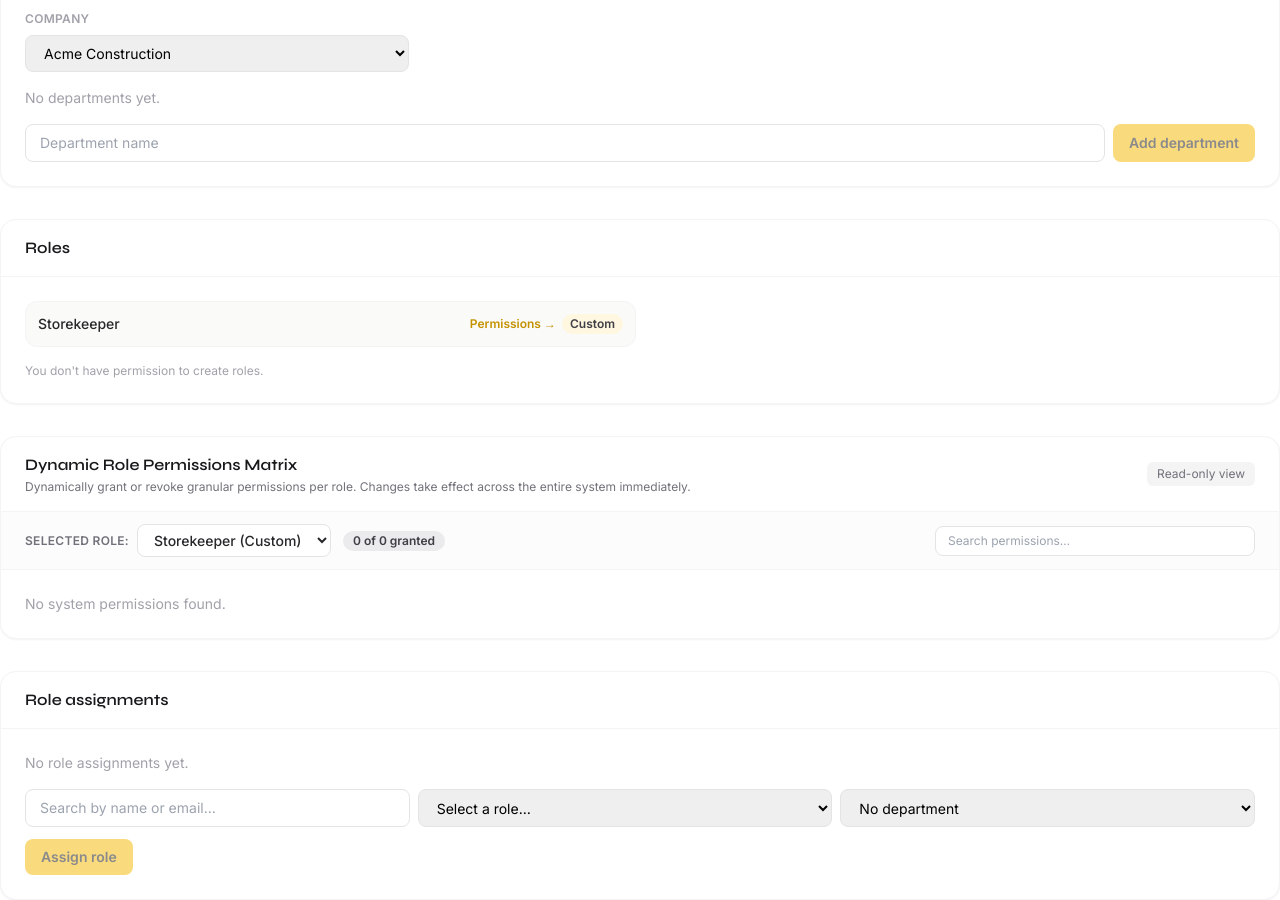
Scenario: DepartmentsRolesPage › creates a role assignment by picking a role from the fetched list
This screenshot has width=1280, height=900.
(page scrolled)
In the field with placeholder "Search by name or email…": (217, 808) top-left (25, 789), bottom-right (410, 827), type "Uma"
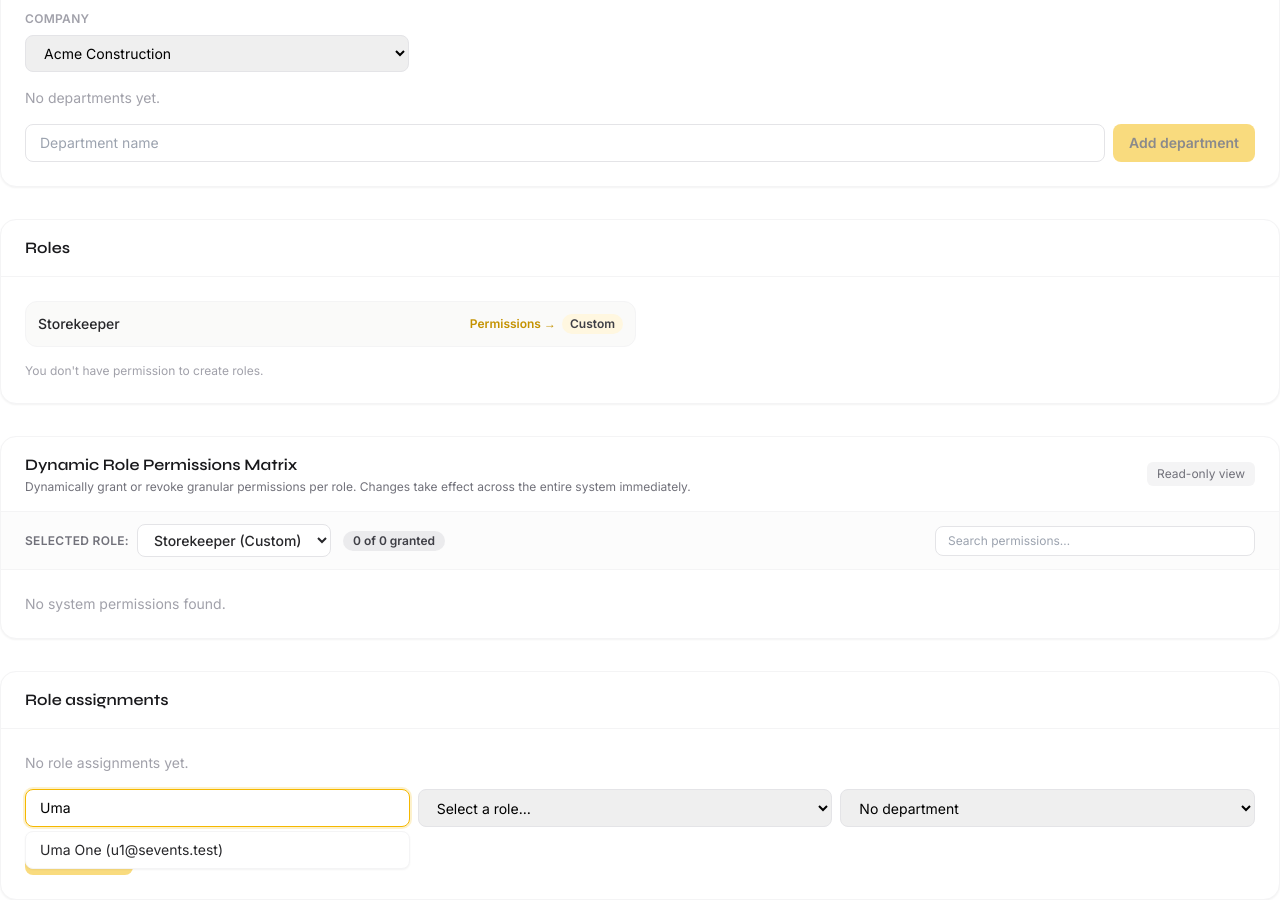
Click the button "Uma One (u1@sevents.test)": (217, 850) top-left (26, 832), bottom-right (409, 868)
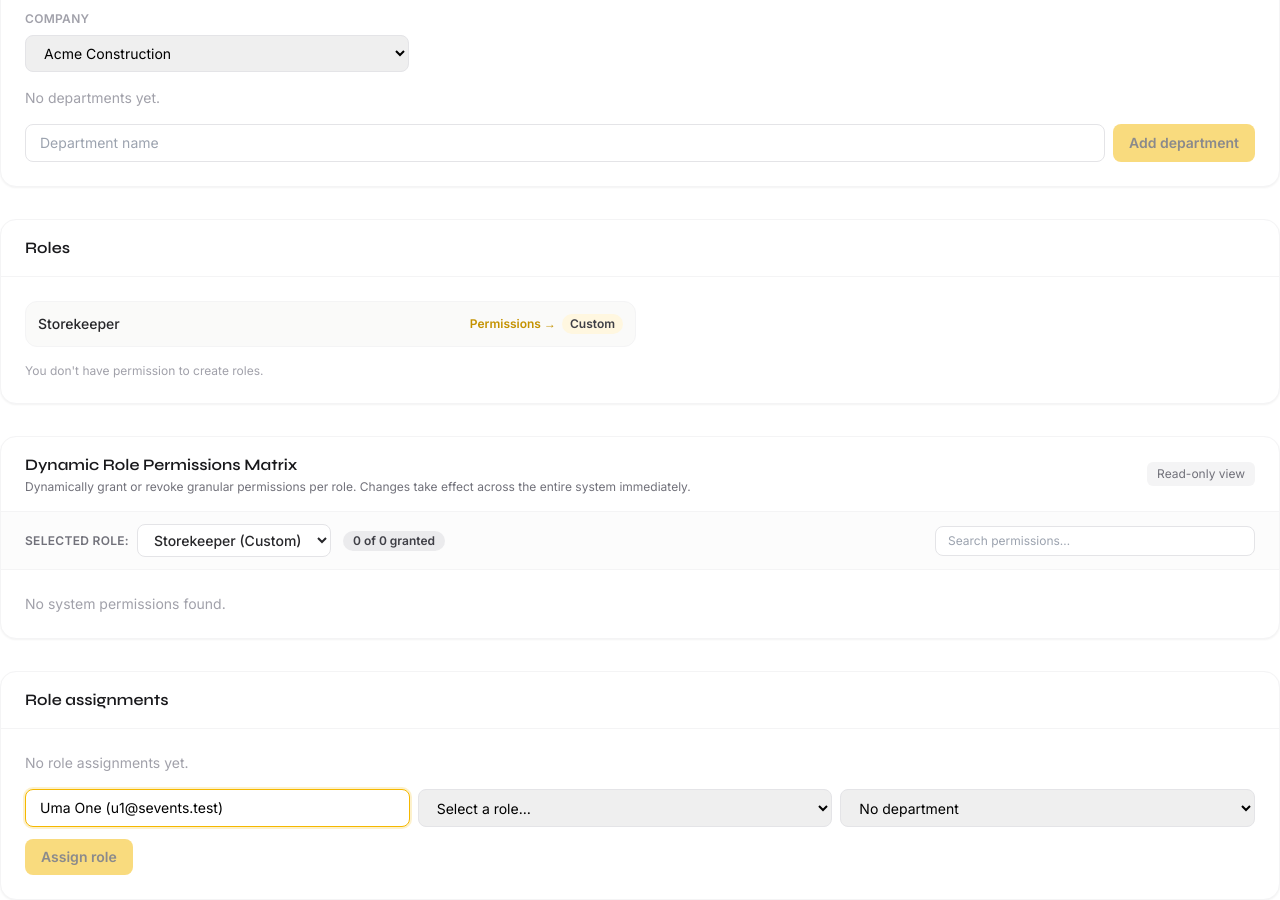
Select "Storekeeper" in the 2nd dropdown showing "Select a role…": (625, 808) top-left (418, 789), bottom-right (832, 827)
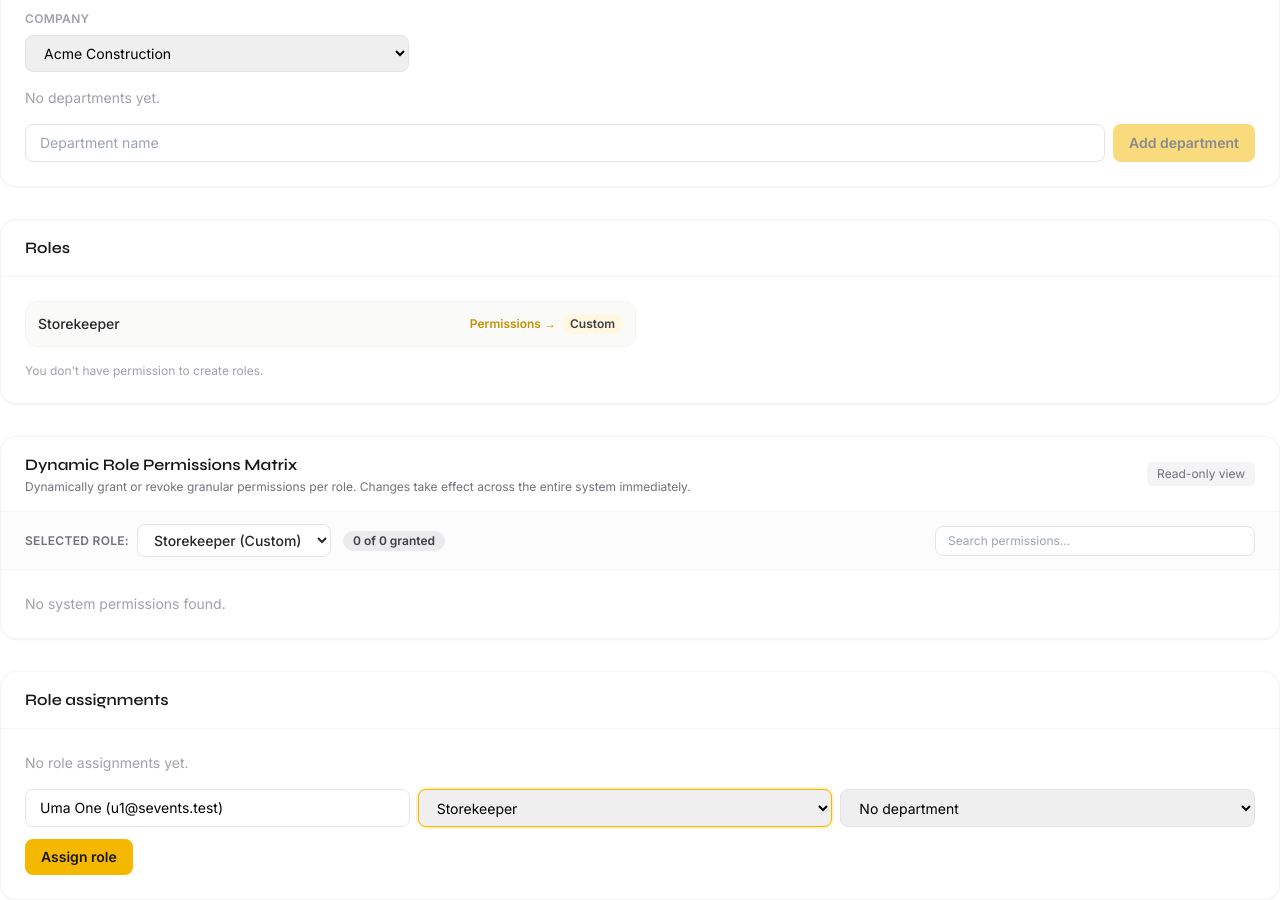
Click the button "Assign role": (79, 857) top-left (25, 839), bottom-right (133, 875)
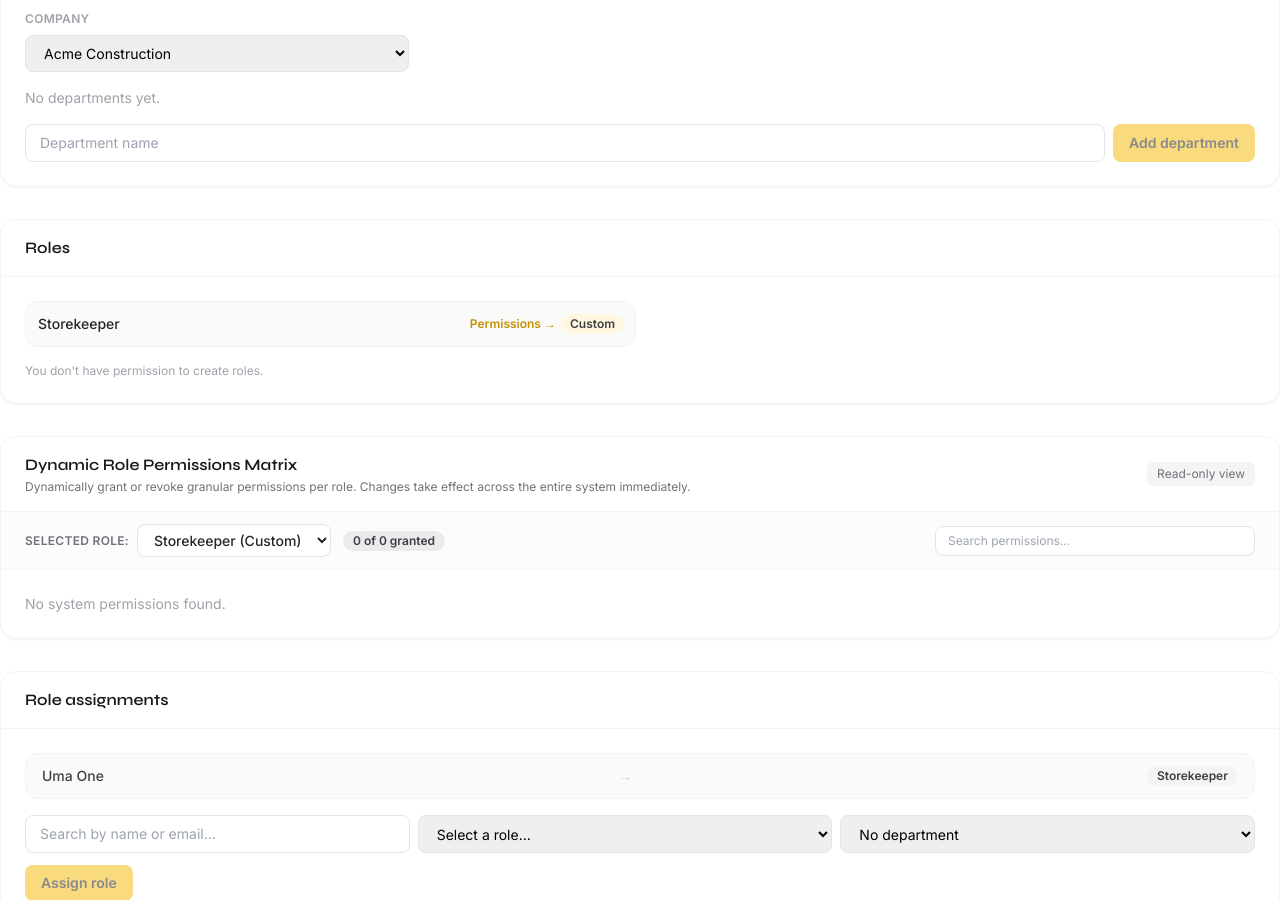
Now the text "Storekeeper" in the row of "Uma One" is shown, box top-left (1157, 768), bottom-right (1228, 783)
